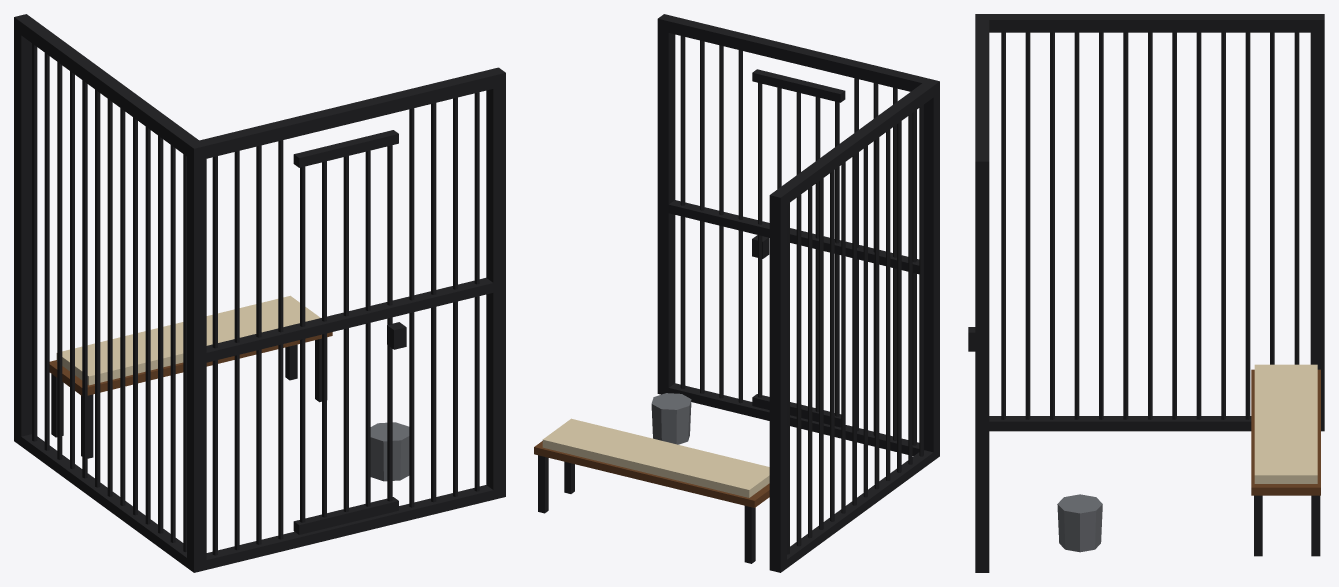
File: SM_Jail_Cell.obj
The picture shows the model from 3 angles, left to right: view 1: azimuth 30°, elevation 25°; view 2: azimuth 150°, elevation 25°; view 3: azimuth 270°, elevation 25°; orthographic projection. The views are drawn at different scales.
Parts seen in each view (by area): view 1: SM_Jail_Cell; view 2: SM_Jail_Cell; view 3: SM_Jail_Cell.
Part boxes in pixels (box(x1,y1,x2,y2)): SM_Jail_Cell: box(14, 14, 505, 572); SM_Jail_Cell: box(534, 14, 939, 572); SM_Jail_Cell: box(968, 14, 1324, 572).
Size of the model in its own units: 2 by 2.6 by 2.04.
